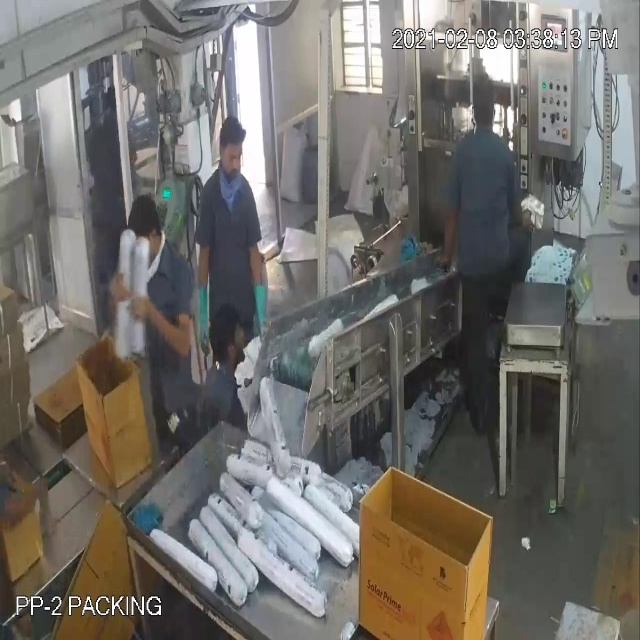Guantes: (249, 246, 278, 345), (192, 252, 216, 350)
Sin_guantes: (128, 281, 196, 366), (0, 449, 48, 525)
